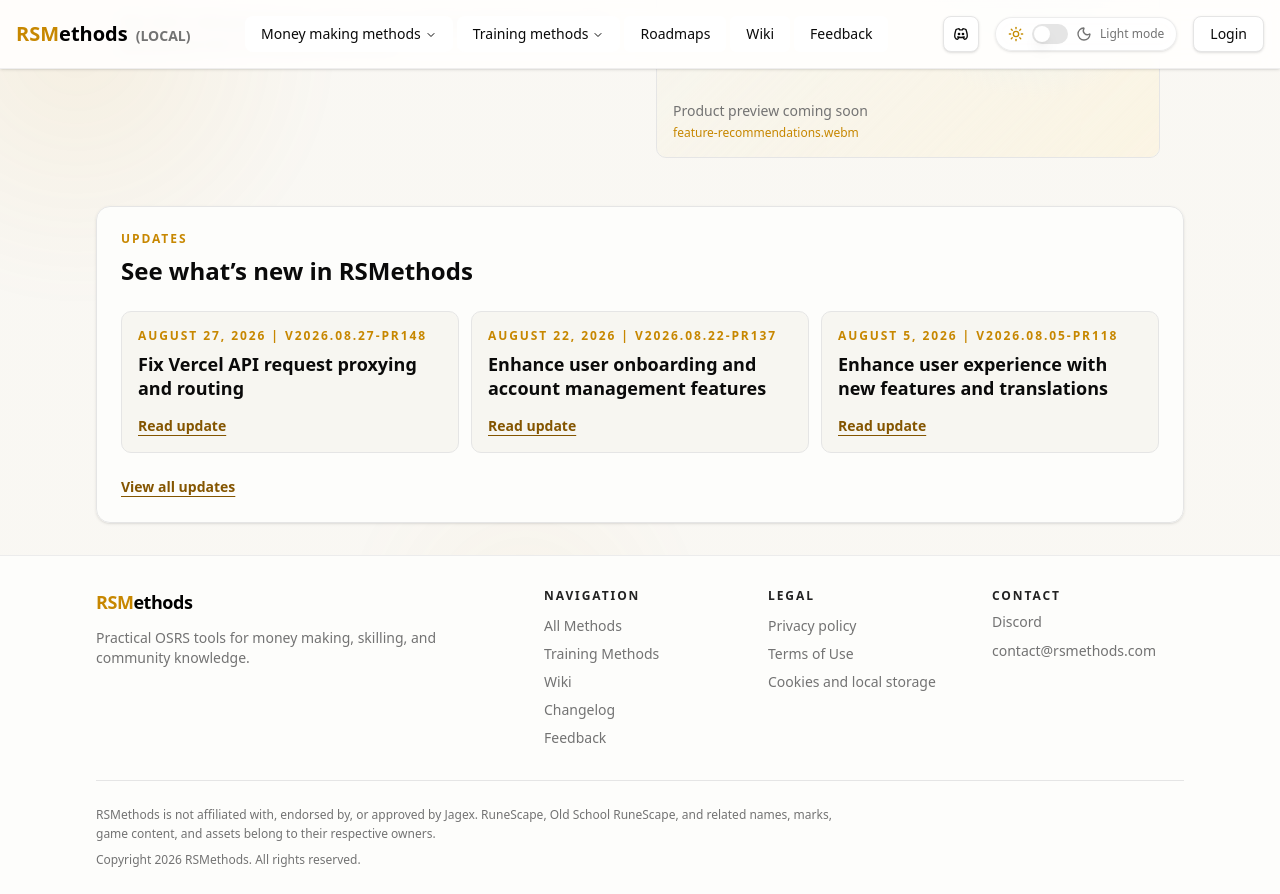
Scenario: critical flow: privacy policy route › links to and renders the privacy policy page
(page scrolled)
Click the link "Privacy policy": point(812, 625) [768, 616, 856, 634]
(page scrolled)
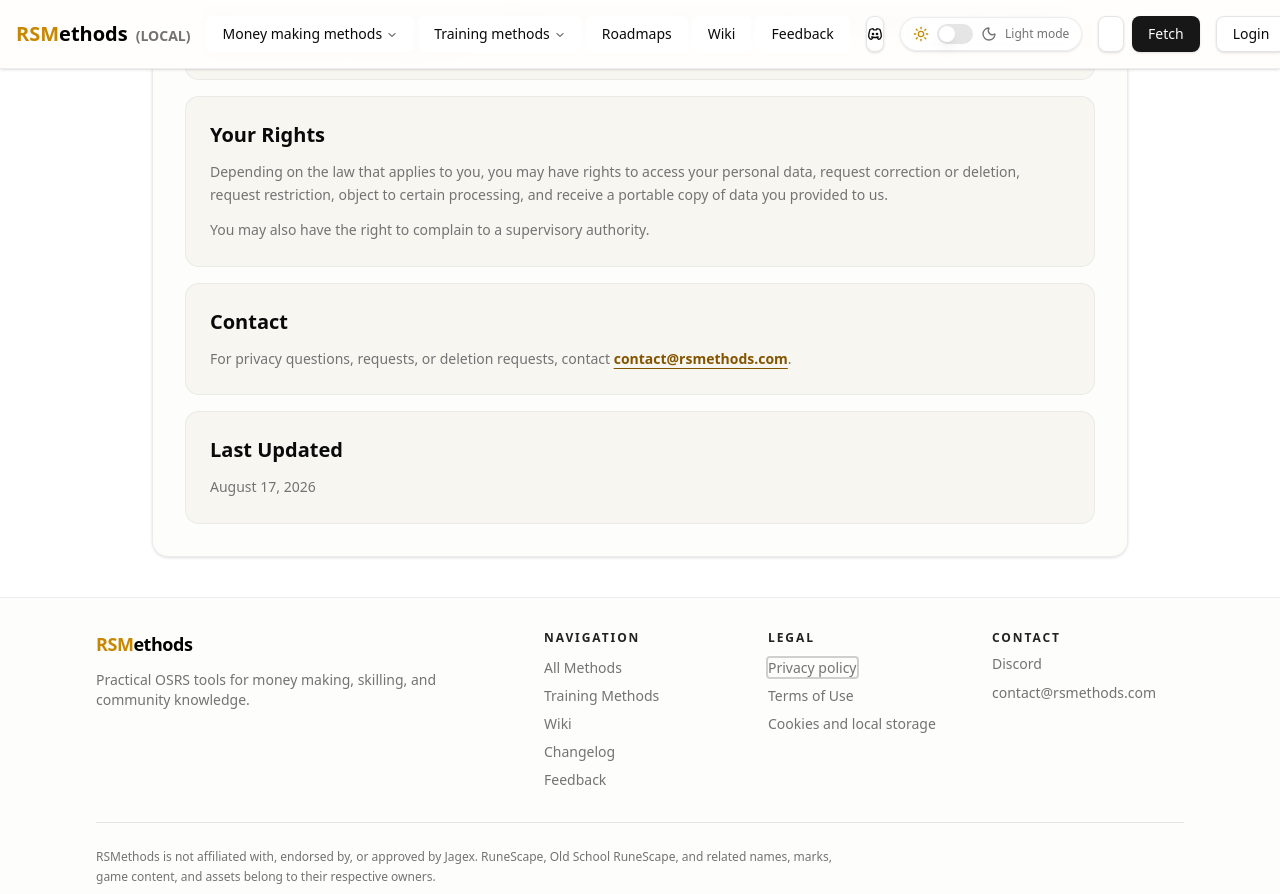
Check: the heading "Last Updated" is shown, box [210, 436, 343, 463]
